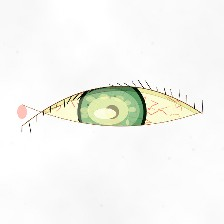corneal_ulcer: (75, 84, 141, 137)
